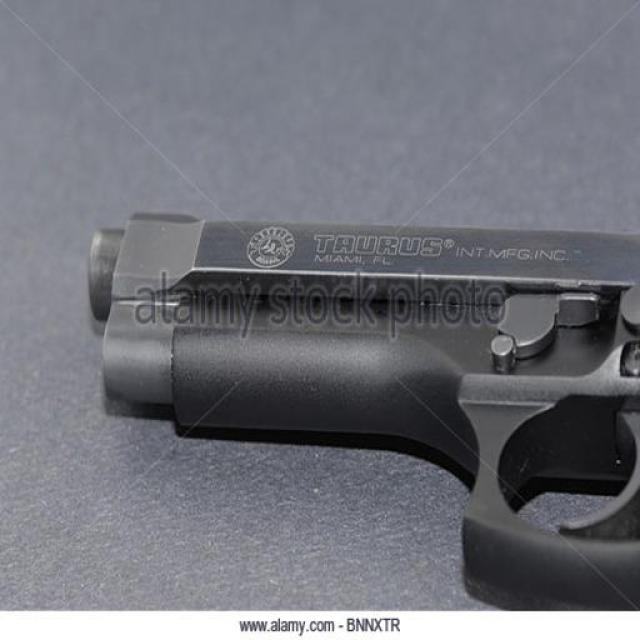pistol: (85, 201, 639, 607)
